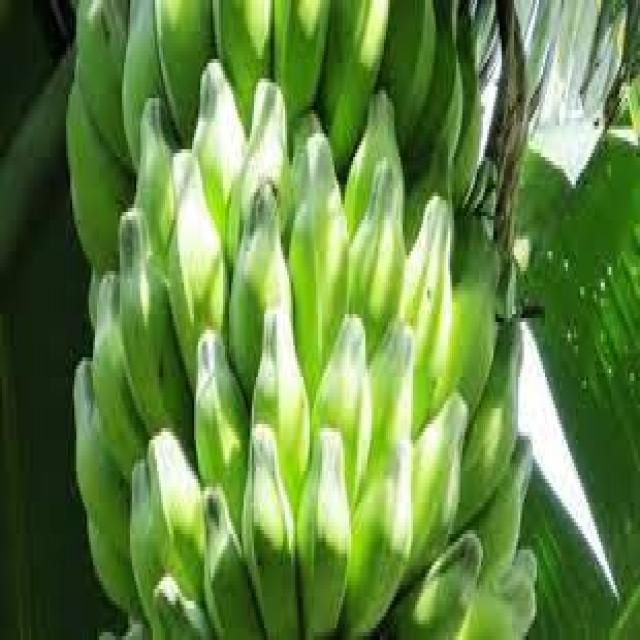banana: (67, 2, 538, 640)
